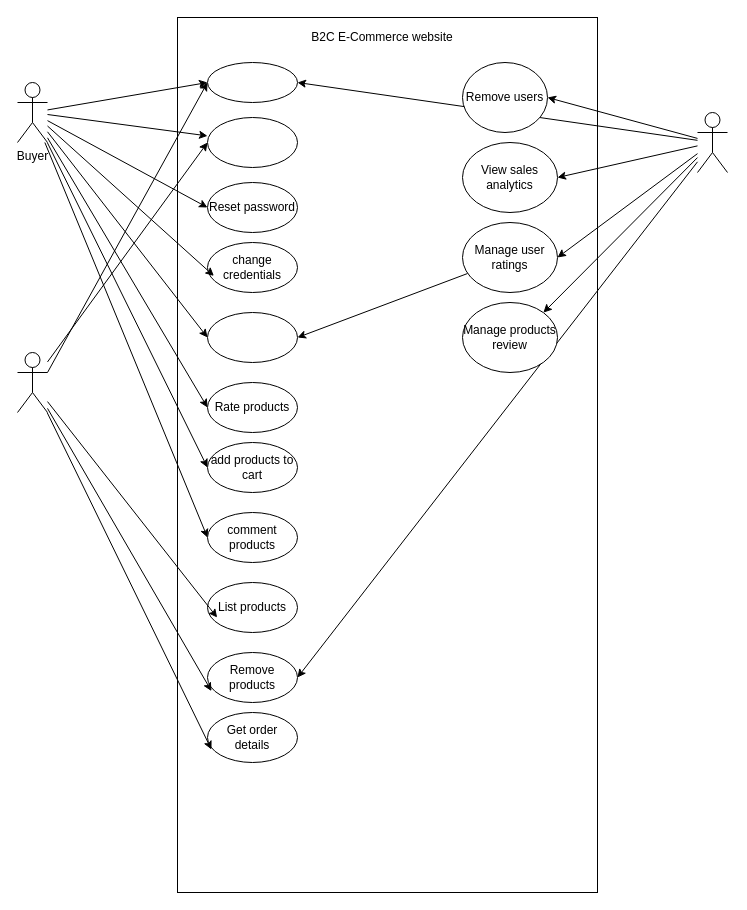
Some shapes in this 747 by 910 pixel diagram are drawn without their labels. The centre of each missing label's shape, as x and y in pixels:
"Admin" goes at (712,142).
"chat" goes at (252,337).
"Create new account" goes at (252,142).
"login" goes at (252,82).
"Seller" goes at (32,382).
